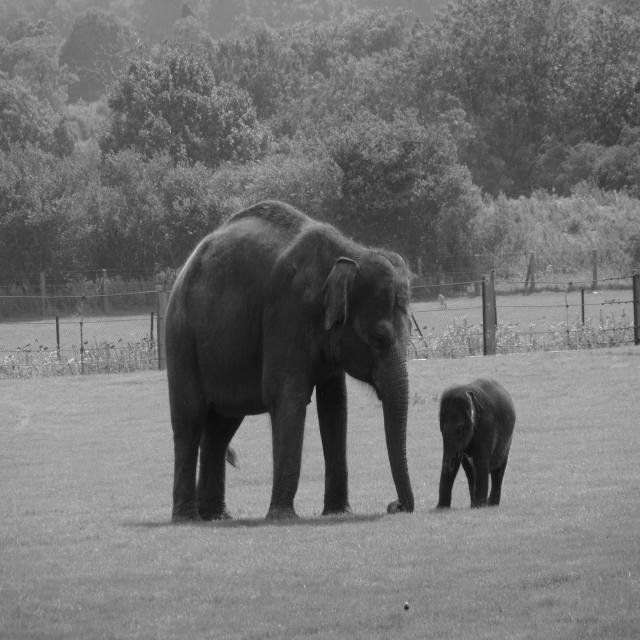Elephant: (164, 198, 416, 522), (435, 376, 516, 509)
